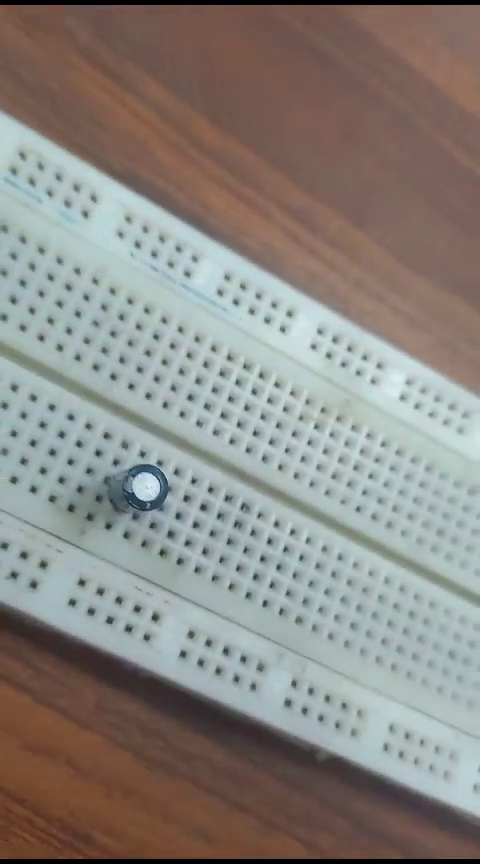capacitor: (105, 461, 174, 523)
